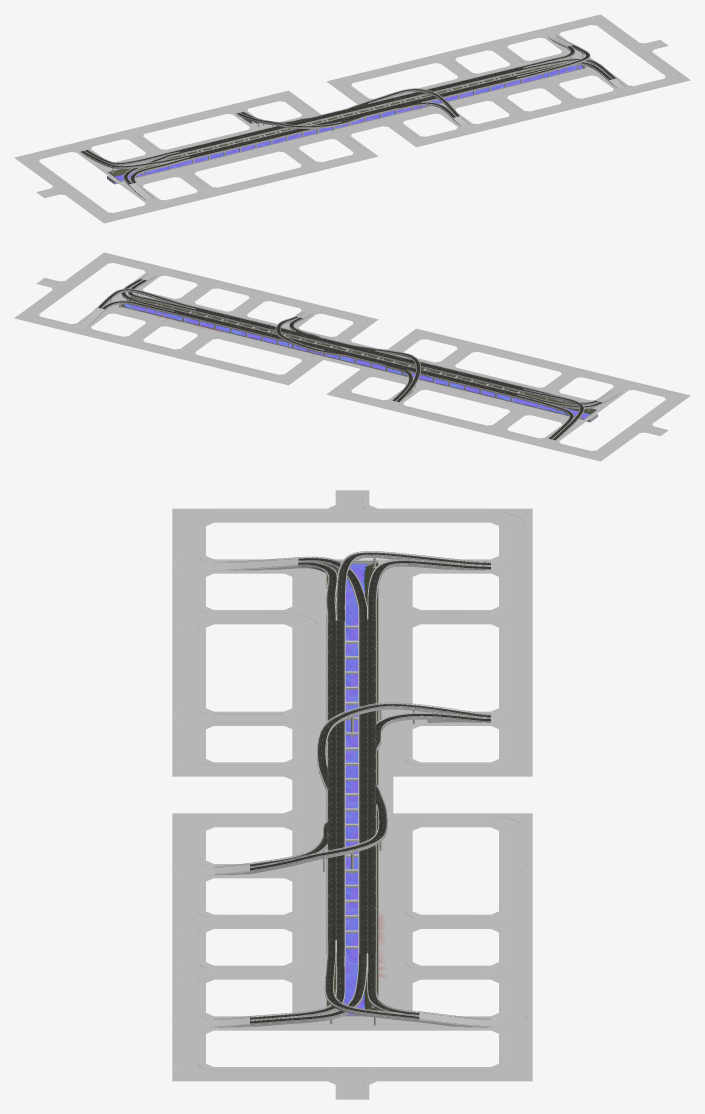
File: QuadBlock-01.fbx
3 renders of one model, top to bottom at view 1: azimuth 30°, elevation 25°; view 2: azimuth 150°, elevation 25°; view 3: azimuth 270°, elevation 25°, orthographic. The views are drawn at different scales.
Visible parts, largest first — view 1: QuadBlock.002, QuadBlock.001, QuadBlock.003, QuadBlock, Road-V, Viaduct, Road.001, Road, Road.003, Road.002, Viaduct-B, Viaduct-A (+2 smaller); view 2: QuadBlock.002, QuadBlock, QuadBlock.003, QuadBlock.001, Road-V, Viaduct, Road.001, Road.003, Road.002, Road, Viaduct-A, Viaduct-B (+2 smaller); view 3: QuadBlock.001, QuadBlock.002, Road.001, Road-V, Road, QuadBlock, QuadBlock.003, Road.003, Road.002, Viaduct, Road-V.002, Road-V.001 (+2 smaller).
Boxes of the visible parts, x1,y1,x2,y2 form: QuadBlock.002: [14, 124, 240, 223]; QuadBlock.001: [464, 14, 690, 113]; QuadBlock.003: [151, 90, 378, 189]; QuadBlock: [326, 48, 553, 147]; Road-V: [180, 70, 518, 158]; Viaduct: [185, 70, 519, 159]; Road.001: [337, 49, 551, 142]; Road: [153, 95, 367, 188]; Road.003: [25, 125, 239, 218]; Road.002: [466, 19, 679, 112]; Viaduct-B: [80, 148, 199, 199]; Viaduct-A: [505, 35, 624, 87]; QuadBlock.002: [464, 362, 690, 461]; QuadBlock: [151, 286, 378, 385]; QuadBlock.003: [326, 328, 553, 427]; QuadBlock.001: [14, 252, 240, 351]; Road-V: [186, 308, 525, 402]; Viaduct: [187, 307, 517, 401]; Road.001: [153, 287, 367, 380]; Road.003: [465, 363, 679, 456]; Road.002: [25, 257, 238, 350]; Road: [337, 333, 551, 426]; Viaduct-A: [80, 273, 199, 325]; Viaduct-B: [505, 385, 621, 440]; QuadBlock.001: [172, 947, 532, 1099]; QuadBlock.002: [172, 490, 532, 647]; Road.001: [172, 795, 532, 947]; Road-V: [214, 621, 490, 940]; Road: [172, 642, 532, 794]; QuadBlock: [172, 795, 532, 952]; QuadBlock.003: [172, 642, 532, 800]; Road.003: [172, 490, 532, 642]; Road.002: [172, 947, 532, 1099]; Viaduct: [214, 625, 490, 939]; Road-V.002: [214, 941, 490, 1026]; Road-V.001: [226, 552, 490, 620].
Size of what is drawn, in the model's own units: 1200 by 25.24 by 300.
